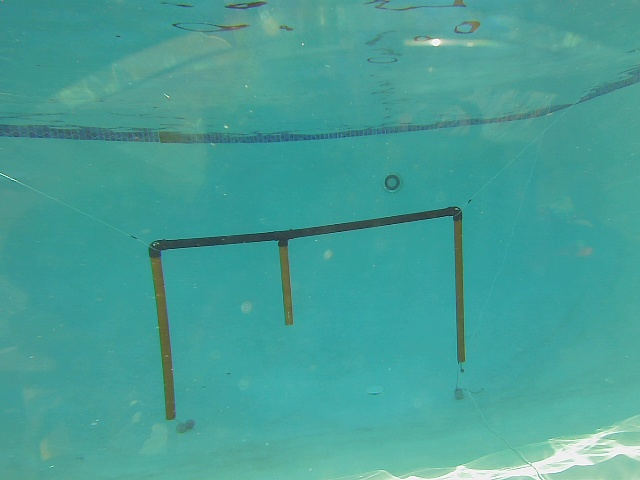Gate: (146, 254, 180, 422), (451, 217, 468, 366), (277, 243, 296, 330)
